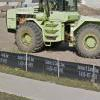Tractor: (6, 3, 100, 68)
